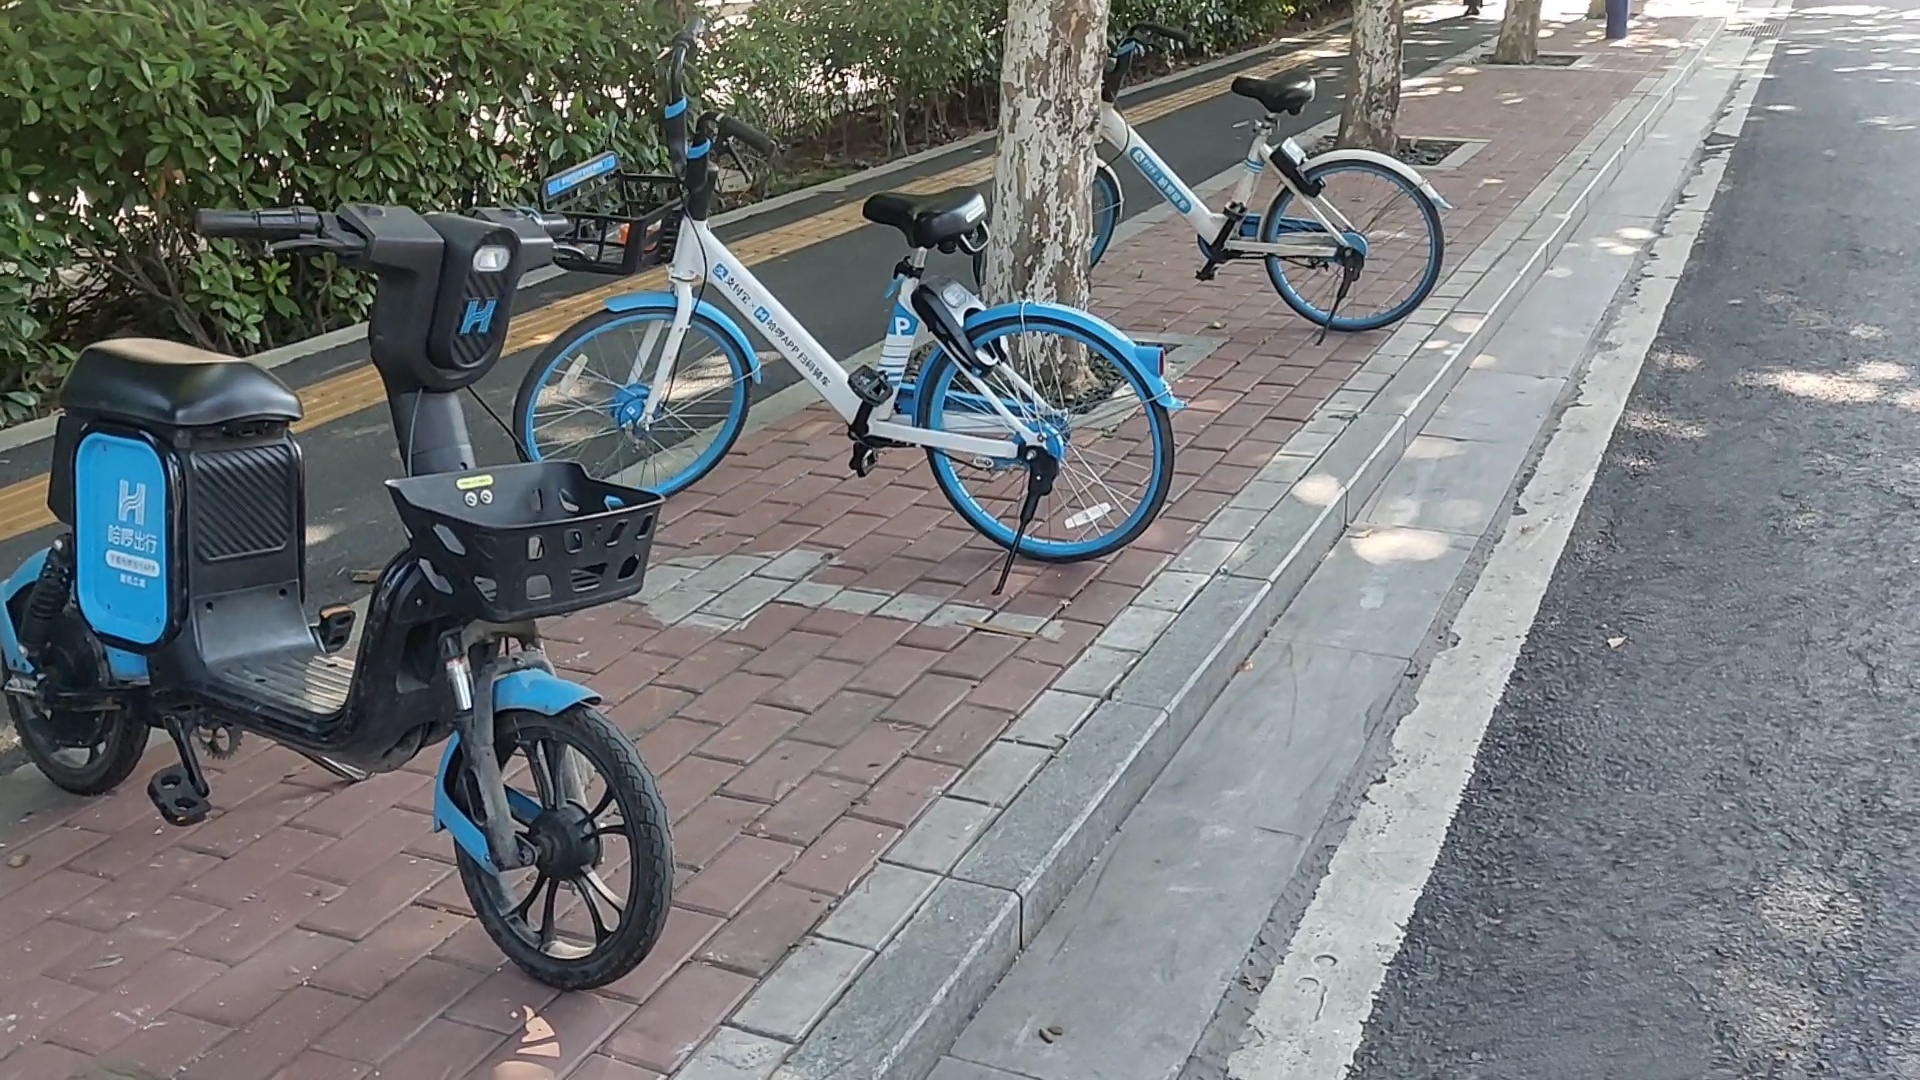non-vehicle: (3, 175, 676, 1007), (513, 76, 1178, 568), (1054, 40, 1452, 334)
